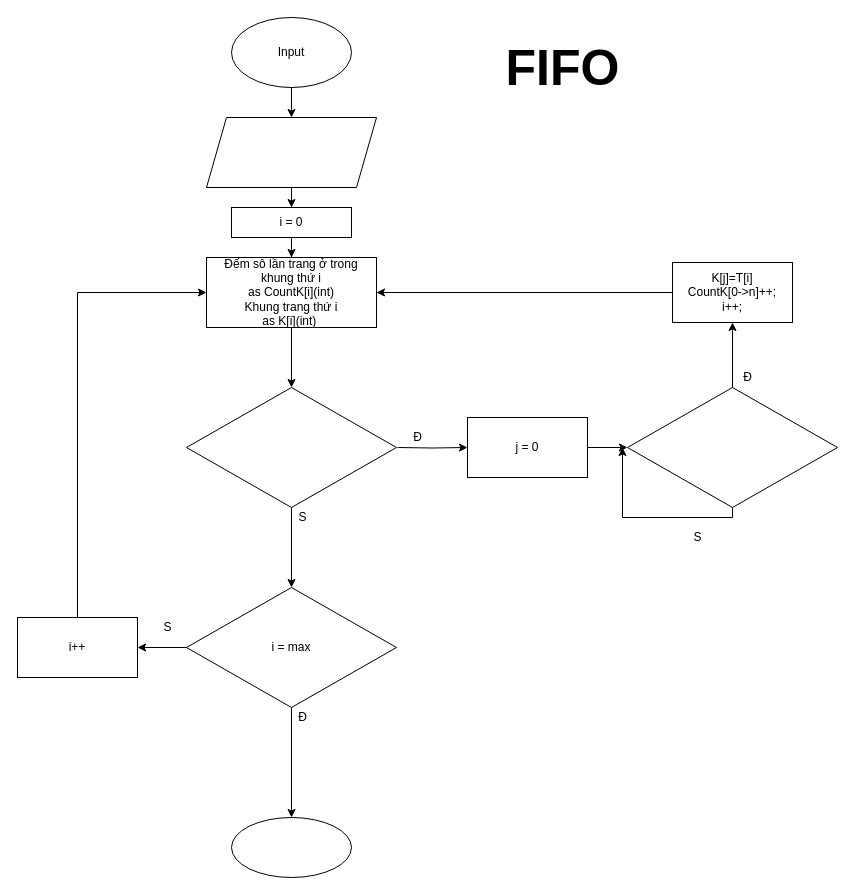
Some shapes in this 855 by 895 pixel diagram are drawn without their labels. The shapes that lost their labels are listed below. From the top down, each one's centre as x and y in pixels, then its label:
At pixel 291 152: "Nhập các trang as T[](int) số khung trang as n(int)".
At pixel 291 447: "T[i] != K[0->n]".
At pixel 732 447: "CountK[j++] = Max(CountK[0->n])".
At pixel 291 847: "End".
